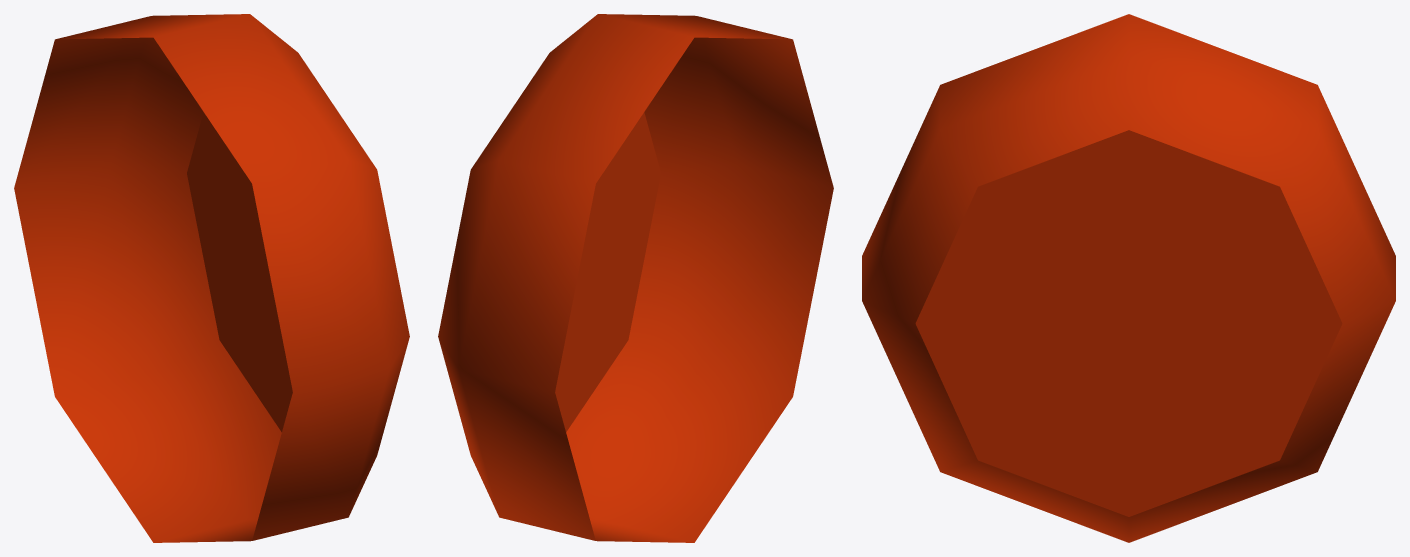
Rendered from original-4.obj.
3 renders of one model, left to right at view 1: azimuth 30°, elevation 25°; view 2: azimuth 150°, elevation 25°; view 3: azimuth 270°, elevation 25°, orthographic. The views are drawn at different scales.
Parts seen in each view (by area): view 1: mesh1/mesh1-geometry#mesh1-geometry; view 2: mesh1/mesh1-geometry#mesh1-geometry; view 3: mesh1/mesh1-geometry#mesh1-geometry.
Boxes of the visible parts, bbox=[...] form: mesh1/mesh1-geometry#mesh1-geometry: bbox=[14, 14, 409, 542]; mesh1/mesh1-geometry#mesh1-geometry: bbox=[438, 14, 833, 542]; mesh1/mesh1-geometry#mesh1-geometry: bbox=[862, 14, 1395, 542].
Size of the model in its own units: 0.0253 by 0.0842 by 0.0842.
